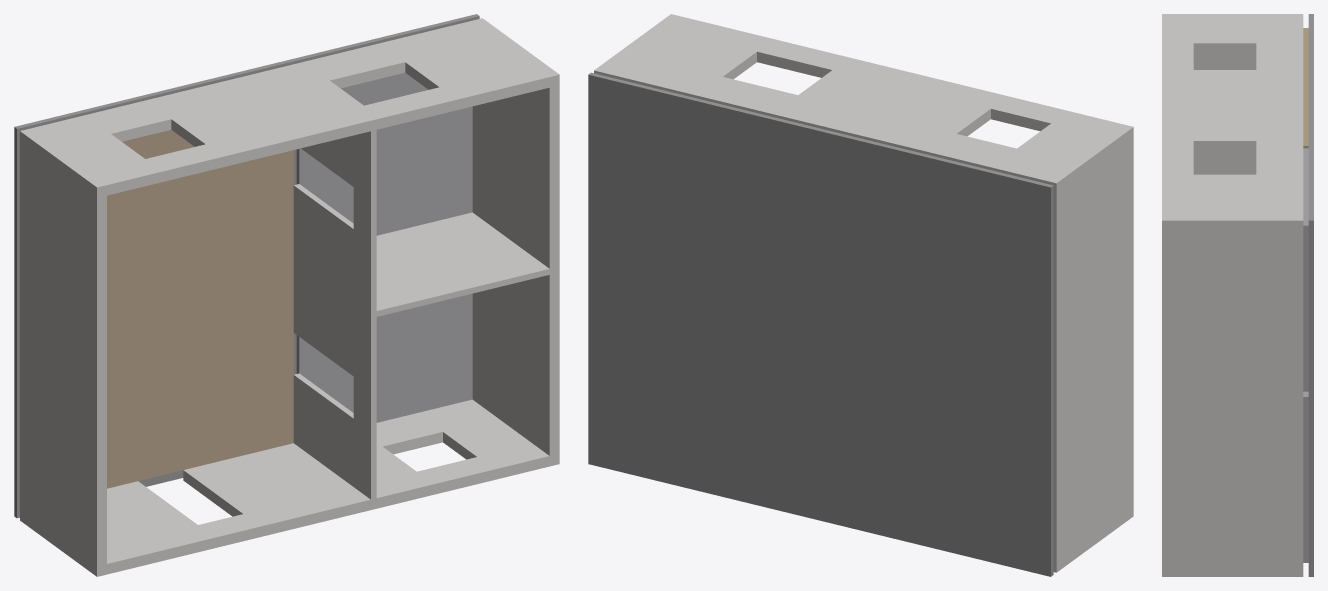
The picture shows the model from 3 angles, left to right: view 1: azimuth 30°, elevation 25°; view 2: azimuth 150°, elevation 25°; view 3: azimuth 270°, elevation 25°; orthographic projection. The views are drawn at different scales.
Visible parts, largest first — view 1: geometry_0, geometry_13, geometry_2, geometry_1, geometry_3, geometry_15, geometry_14, geometry_16, geometry_7, geometry_9, geometry_8, geometry_11 (+5 smaller); view 2: geometry_16, geometry_2, geometry_3, geometry_0, geometry_7, geometry_8, geometry_9, geometry_10; view 3: geometry_0, geometry_3, geometry_2, geometry_16, geometry_7, geometry_15, geometry_9, geometry_8, geometry_14, geometry_10, geometry_13.
Boxes of the visible parts, x1=… form: geometry_0: x1=293, y1=18, x2=559, y2=479; geometry_13: x1=107, y1=129, x2=293, y2=488; geometry_2: x1=20, y1=115, x2=215, y2=576; geometry_1: x1=183, y1=373, x2=433, y2=536; geometry_3: x1=146, y1=62, x2=381, y2=199; geometry_15: x1=296, y1=73, x2=472, y2=235; geometry_14: x1=296, y1=293, x2=472, y2=422; geometry_16: x1=14, y1=14, x2=479, y2=518; geometry_7: x1=304, y1=43, x2=405, y2=88; geometry_9: x1=85, y1=100, x2=171, y2=141; geometry_8: x1=364, y1=87, x2=456, y2=128; geometry_11: x1=376, y1=413, x2=442, y2=454; geometry_16: x1=588, y1=72, x2=1053, y2=576; geometry_2: x1=991, y1=111, x2=1133, y2=572; geometry_3: x1=772, y1=57, x2=1007, y2=155; geometry_0: x1=594, y1=14, x2=773, y2=98; geometry_7: x1=697, y1=77, x2=797, y2=116; geometry_8: x1=757, y1=39, x2=849, y2=77; geometry_9: x1=931, y1=134, x2=1016, y2=169; geometry_10: x1=991, y1=96, x2=1067, y2=131; geometry_0: x1=1162, y1=174, x2=1303, y2=576; geometry_3: x1=1162, y1=70, x2=1303, y2=174; geometry_2: x1=1162, y1=14, x2=1303, y2=69; geometry_16: x1=1308, y1=14, x2=1313, y2=576; geometry_7: x1=1256, y1=141, x2=1303, y2=174; geometry_15: x1=1303, y1=148, x2=1308, y2=391; geometry_9: x1=1256, y1=43, x2=1303, y2=69; geometry_8: x1=1162, y1=141, x2=1193, y2=174; geometry_14: x1=1303, y1=391, x2=1308, y2=562; geometry_10: x1=1162, y1=43, x2=1193, y2=69; geometry_13: x1=1303, y1=28, x2=1308, y2=148.
Size of the model in its own units: 9.35 by 7.52 by 2.9.
